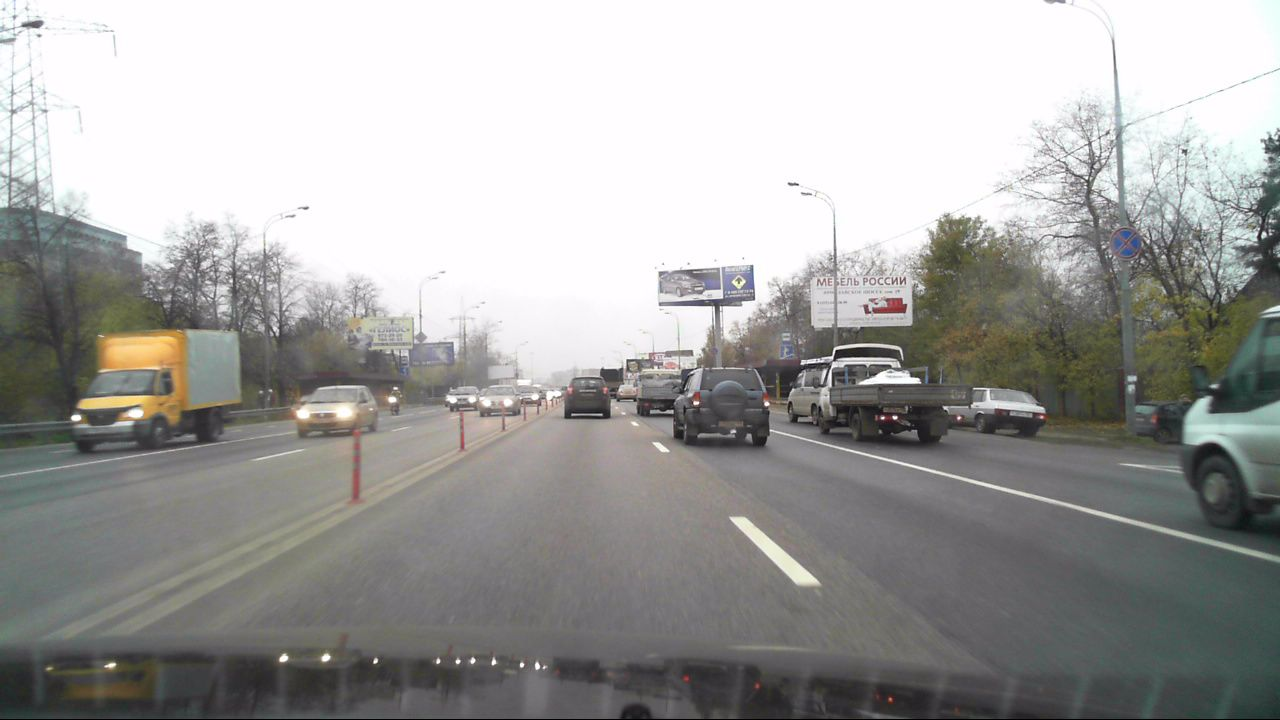No Parking: (1110, 228, 1141, 258)
